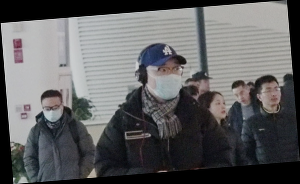with_mask: (147, 60, 184, 101), (41, 103, 62, 123)
without_mask: (262, 85, 282, 106), (209, 97, 227, 119), (233, 90, 251, 107)
